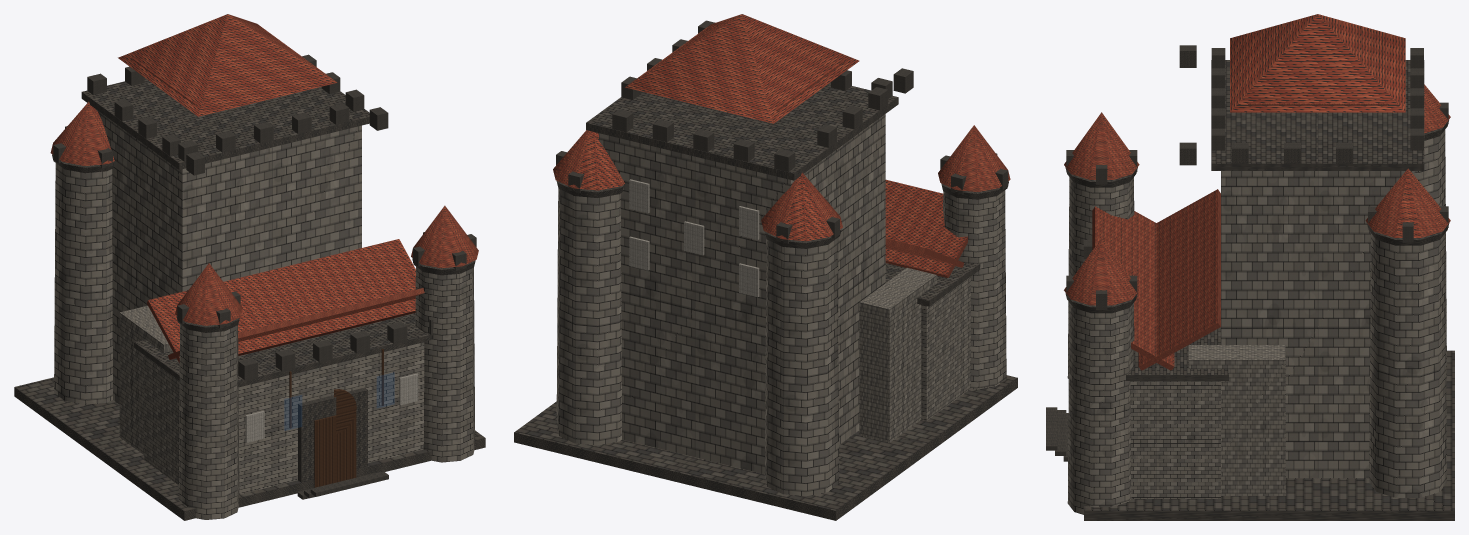
File: GrindMooreCastleKeep.glb
The picture shows the model from 3 angles, left to right: view 1: azimuth 30°, elevation 25°; view 2: azimuth 150°, elevation 25°; view 3: azimuth 270°, elevation 25°; orthographic projection. The views are drawn at different scales.
Visible parts, largest first — view 1: GrindMooreCastleKeep; view 2: GrindMooreCastleKeep; view 3: GrindMooreCastleKeep.
Boxes of the visible parts, x1,y1,x2,y2 form: GrindMooreCastleKeep: (14, 14, 485, 520); GrindMooreCastleKeep: (514, 14, 1017, 520); GrindMooreCastleKeep: (1046, 14, 1454, 520).
Bounding box in the file's own units: 23.5 × 29.2 × 25.35.
6 materials, 6 textured.
